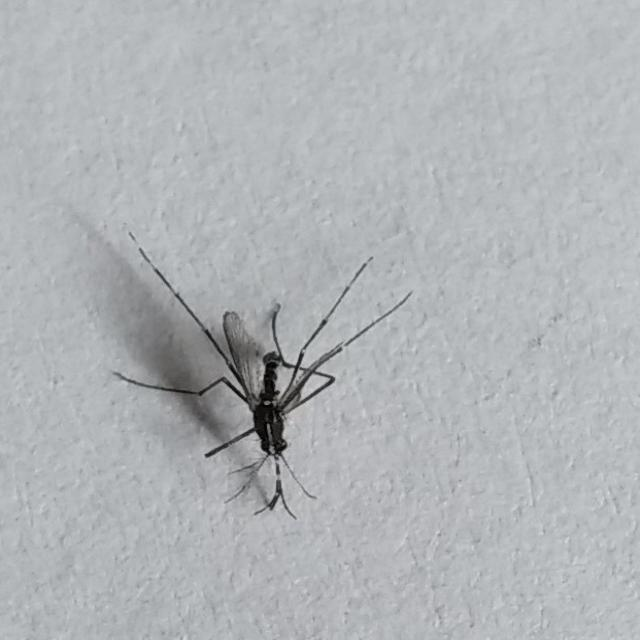albopictus: (99, 223, 409, 522)
